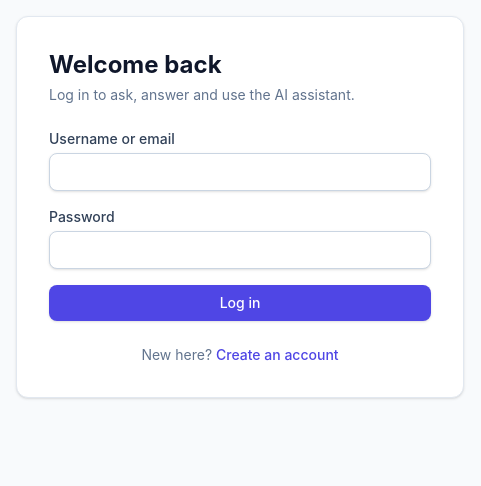
Test case: LoginPage › shows the server error
In the field labelled "Username or email": [240, 172] box [49, 153, 431, 191], type "alice"
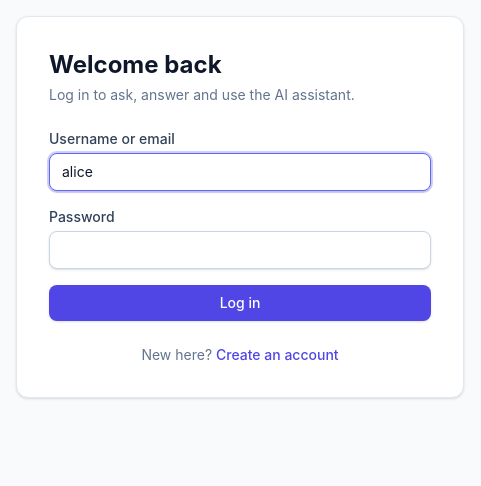
In the password field labelled "Password": [240, 250] box [49, 231, 431, 269], type "wrong"
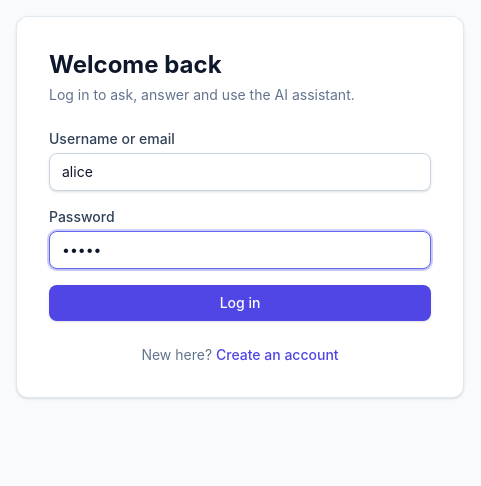
Click the button "Log in": [240, 303] box [49, 285, 431, 321]
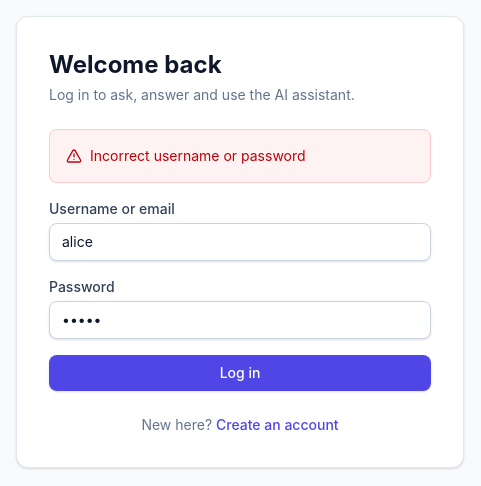
Check: the message reads "Incorrect username or password", box [90, 147, 306, 164]
